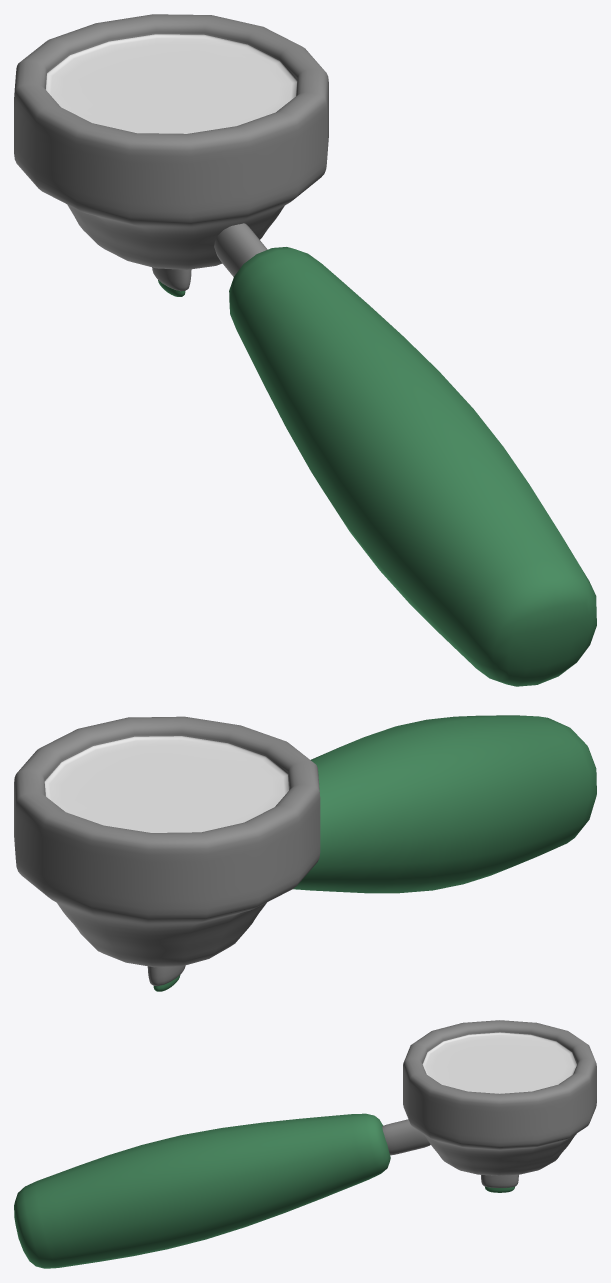
The model's file is coffeefiller_top.fbx.
3 views of the same model, one above another, from view 1: azimuth 30°, elevation 25°; view 2: azimuth 150°, elevation 25°; view 3: azimuth 270°, elevation 25° (orthographic). The views are drawn at different scales.
Parts seen in each view (by area): view 1: Cube.008; view 2: Cube.008; view 3: Cube.008.
Part boxes in pixels (x1,y1,x2,y2): Cube.008: [14, 14, 596, 686]; Cube.008: [14, 715, 596, 991]; Cube.008: [14, 1020, 596, 1268].
Bounding box in the file's own units: 250 × 296 × 752.
